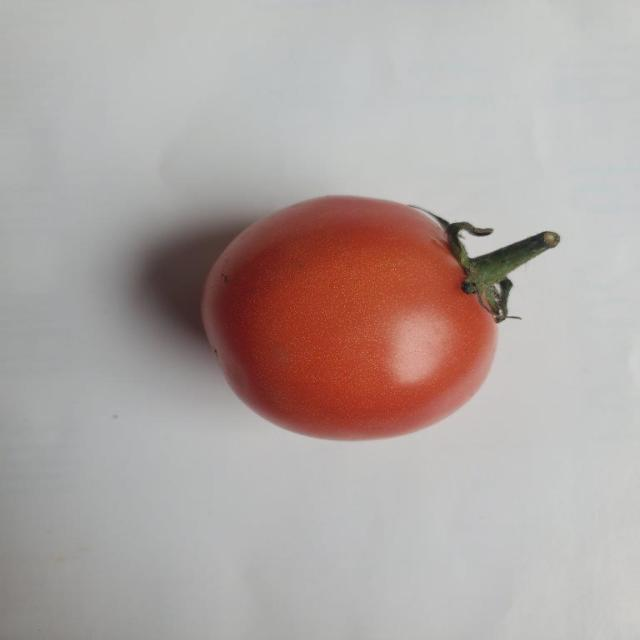Tomato: (205, 188, 564, 444)
